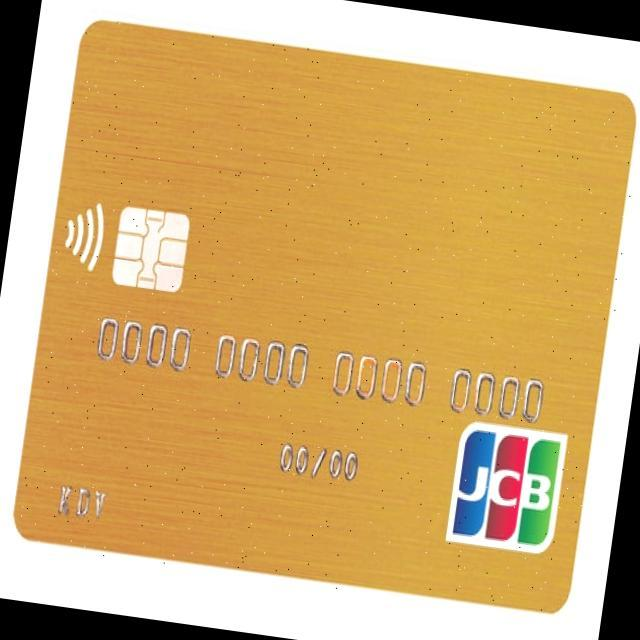payment_card: (8, 16, 636, 617)
